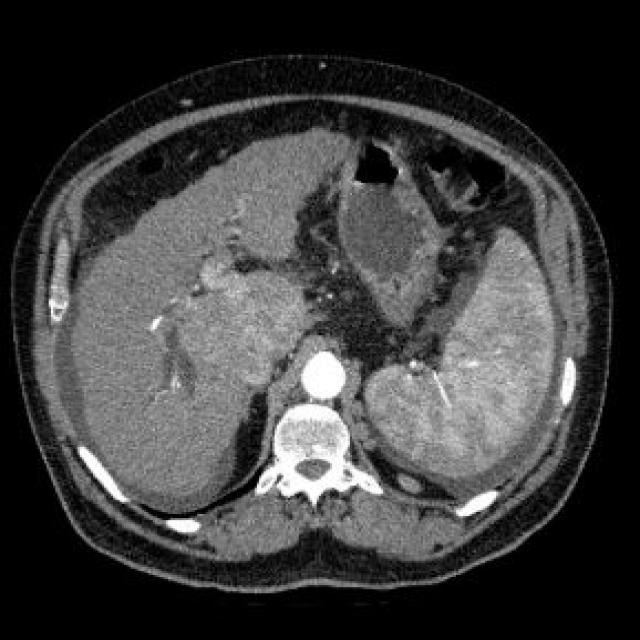Tumor: (378, 233, 562, 497)
